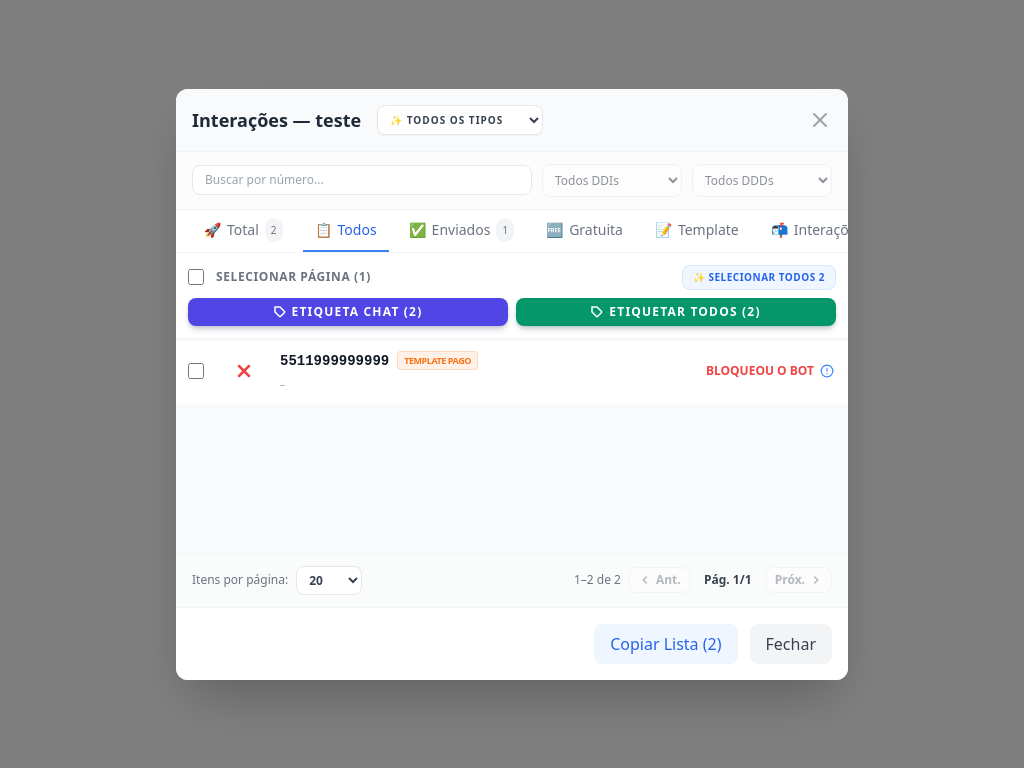
it: ContactsModal › exibe a explicação de BOT_BLOCK corretamento ao clicar no ícone de ajuda
Expected: the text "BLOQUEOU O BOT" is shown, [706,363,814,379]
Click the button titled "Explicar erro".
click(827, 371)  # box [818,362,836,380]
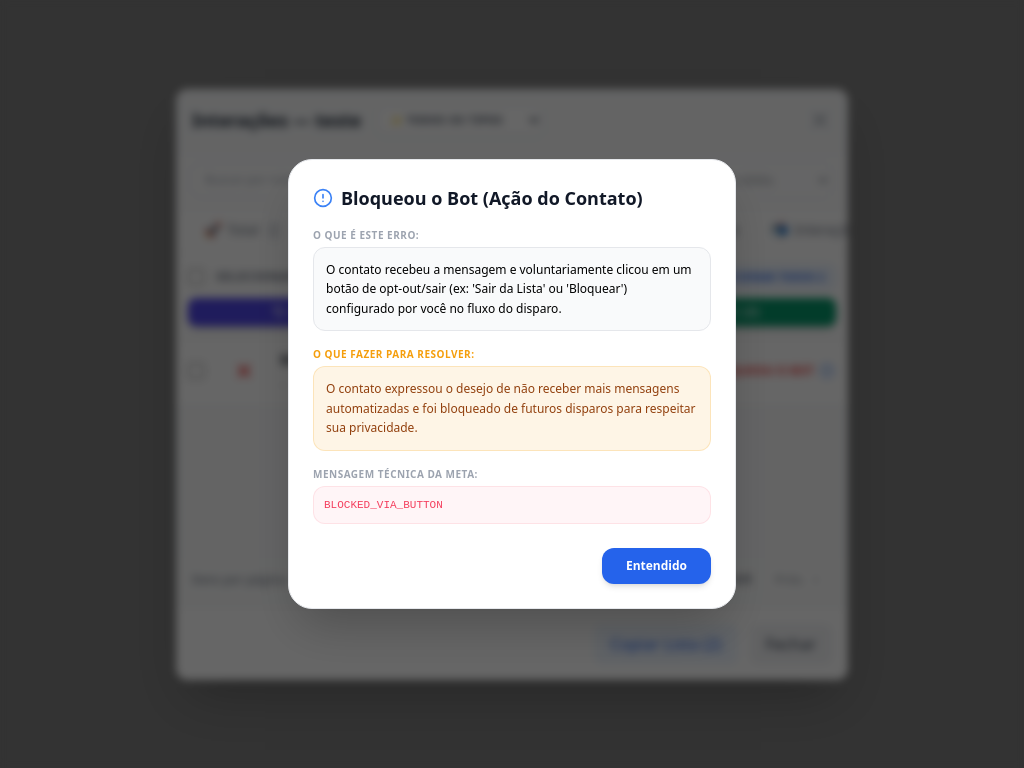
Now the heading "Bloqueou o Bot (Ação do Contato)" is shown, box [313,186,643,210]
Now the text "O contato recebeu a mensagem e voluntariamente clicou" is shown, box [326,261,692,317]
Click the button "Entendido".
click(656, 566)  # box [602,548,711,584]
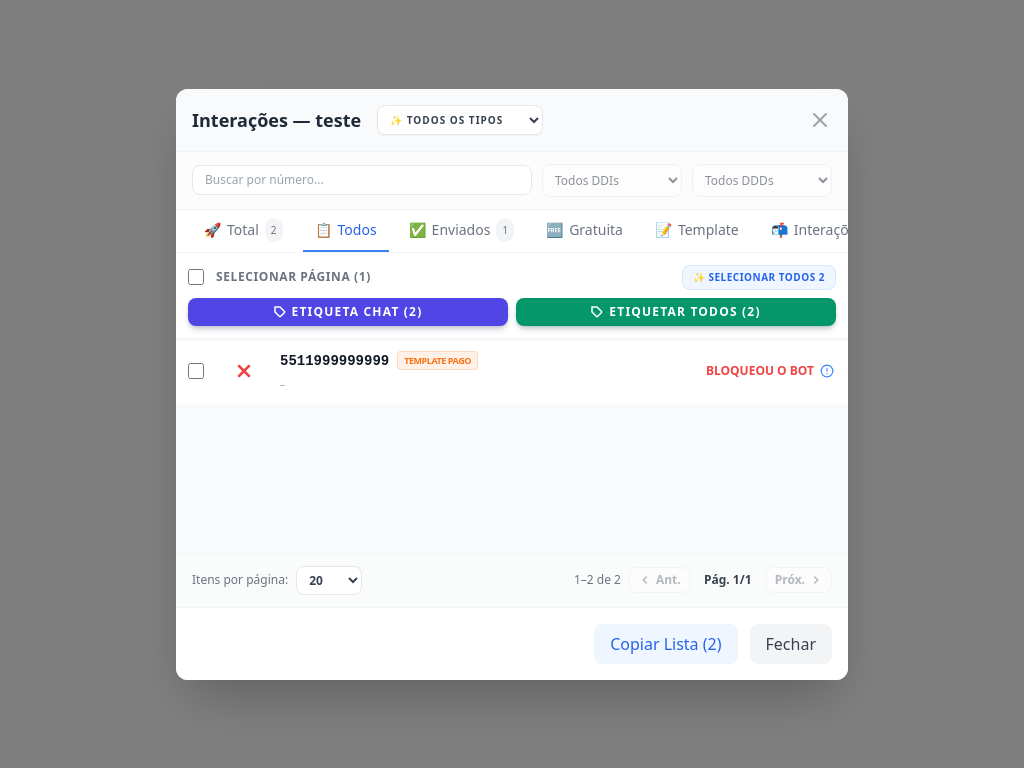
Now the heading "Bloqueou o Bot (Ação do Contato)" is gone
